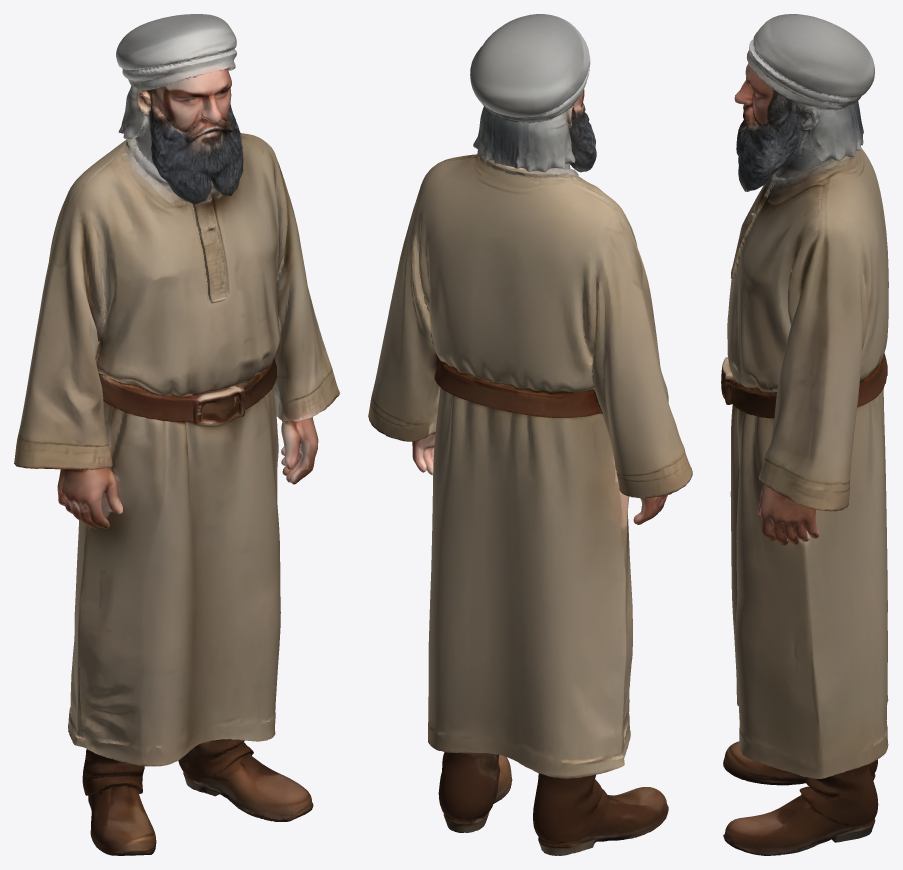
File: padre.glb
3 renders of one model, left to right at view 1: azimuth 30°, elevation 25°; view 2: azimuth 150°, elevation 25°; view 3: azimuth 270°, elevation 25°, orthographic.
Parts seen in each view (by area): view 1: model; view 2: model; view 3: model.
Boxes of the visible parts, x1=… form: model: x1=14, y1=14, x2=339, y2=855; model: x1=368, y1=14, x2=692, y2=855; model: x1=721, y1=14, x2=888, y2=855.
Size of the model in its own units: 0.7214 by 1.74 by 0.335.
Materials: 1 (1 with a texture image).
